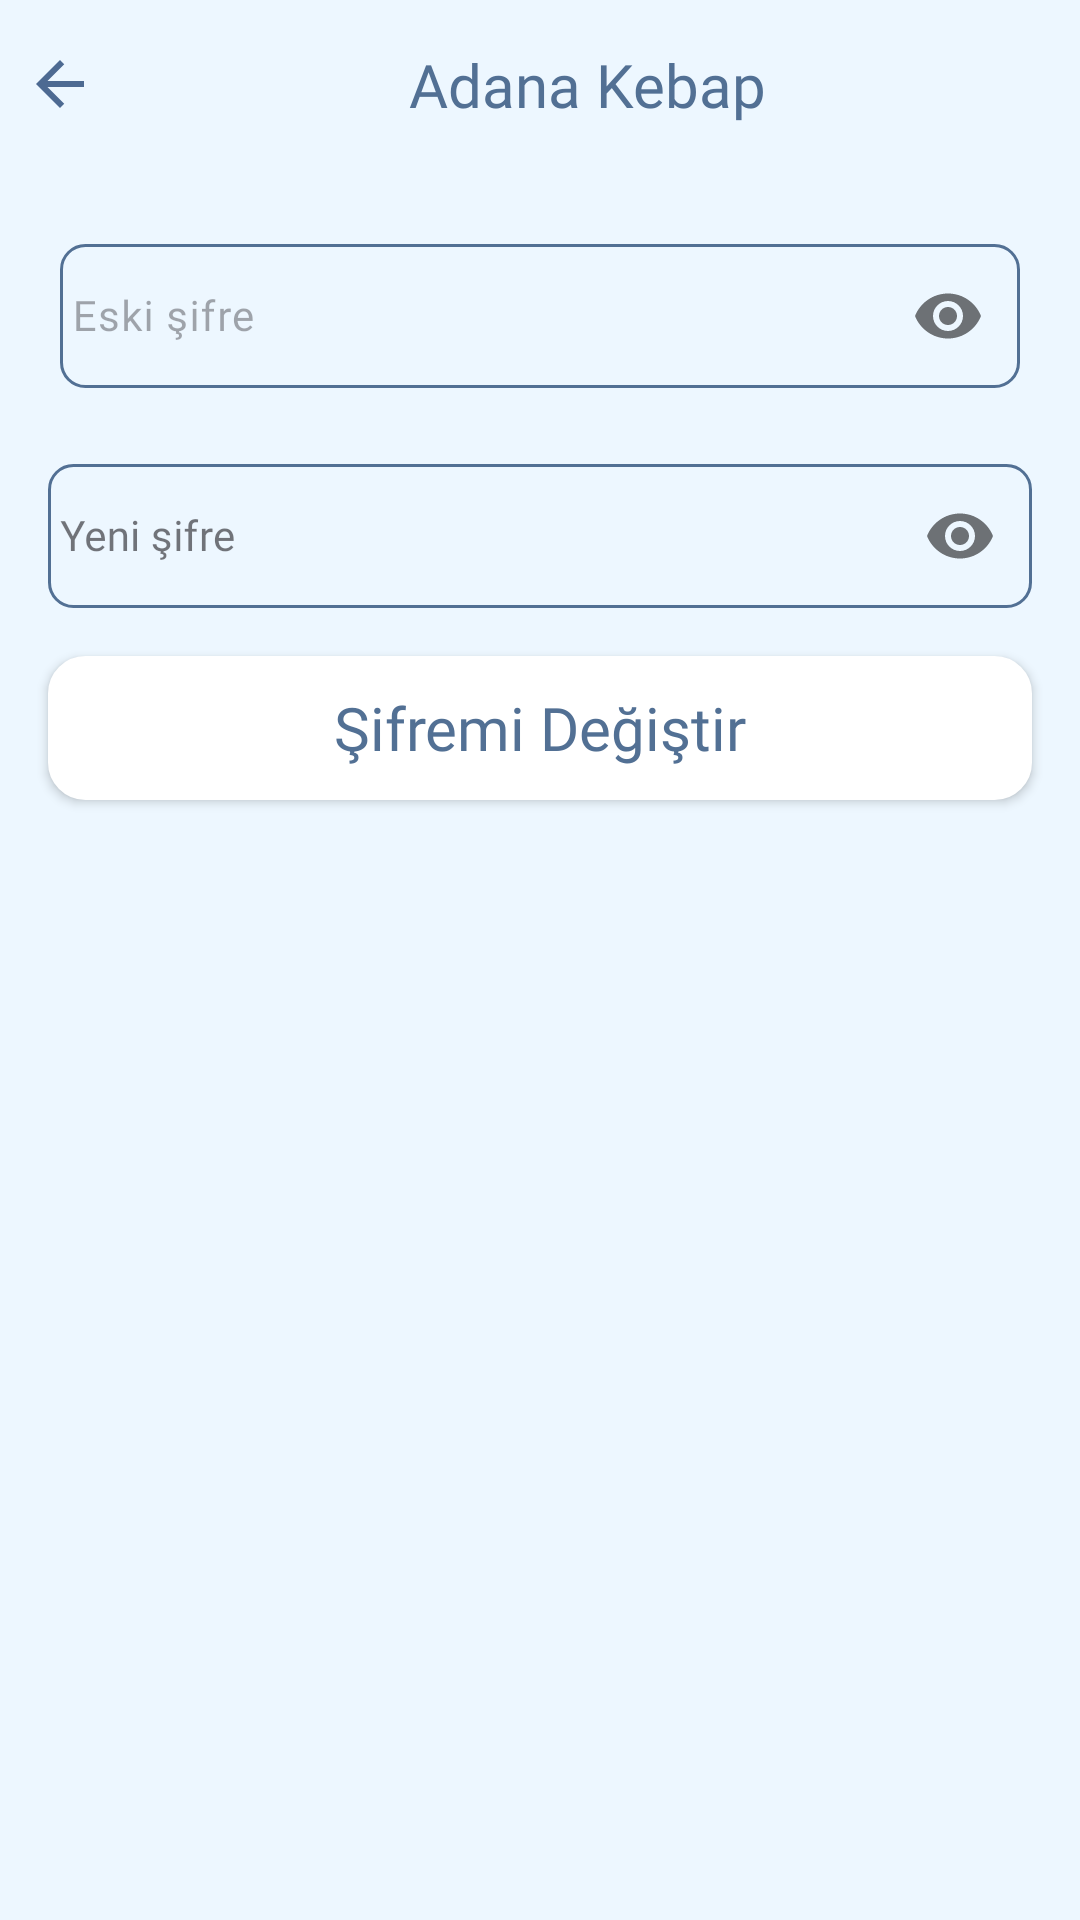

Screen size 1080w x 1920h. Icon name, then its box in pixels as detection(x1, y1, x2, y2):
back: detection(36, 60, 84, 108)
